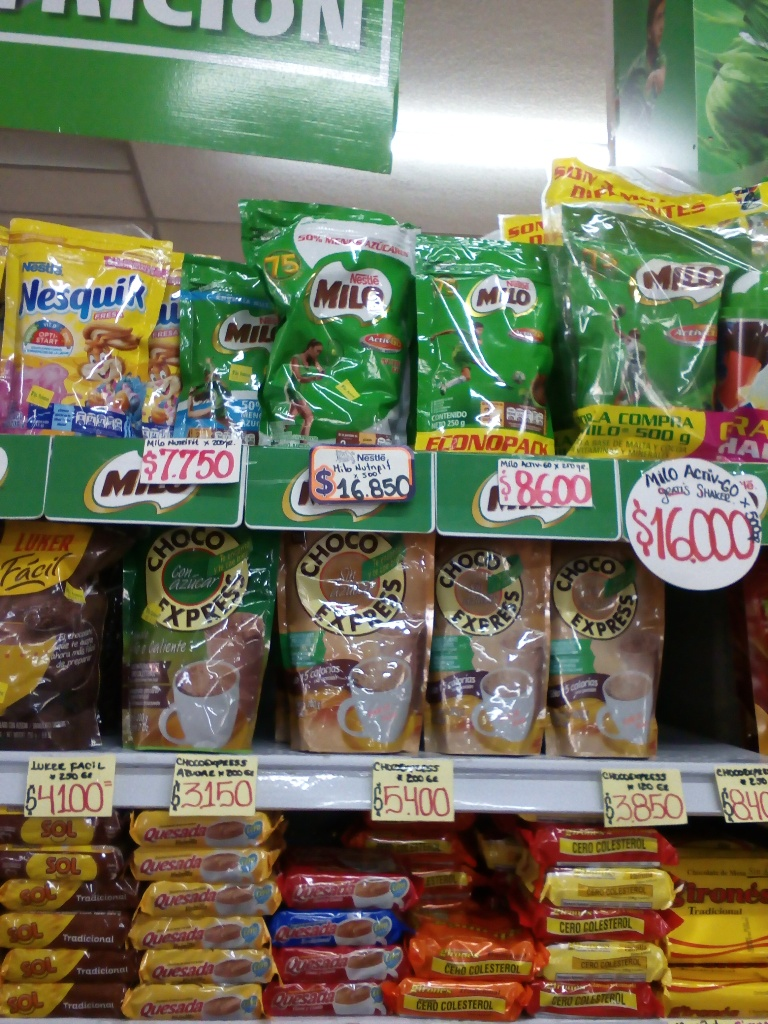COL0170203DYP25000: (412, 235, 562, 455)
COL0170203DYP50000: (560, 176, 730, 461)
COL0170205DYP20000: (179, 251, 273, 445)
COL0170205DYP50000: (248, 193, 419, 455)
COL0170305DYP20000: (3, 201, 167, 439)
